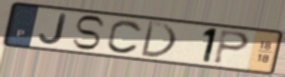1: (198, 27, 220, 66)
C: (105, 19, 145, 56)
D: (138, 20, 178, 60)
J: (37, 13, 69, 47)
P: (211, 29, 252, 66)
S: (69, 14, 107, 52)
